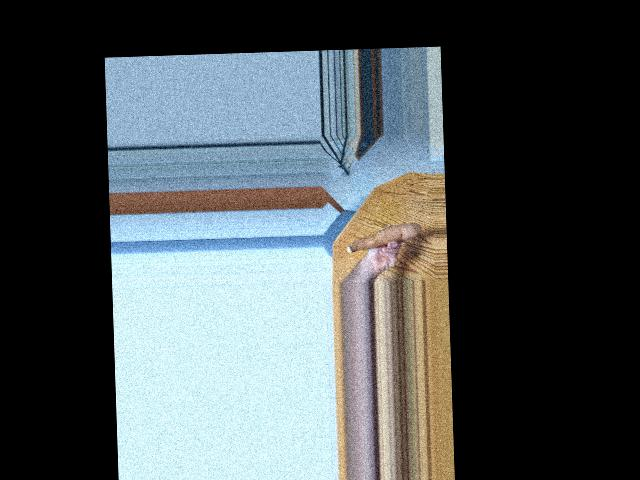sweet_potato: (347, 218, 418, 254)
